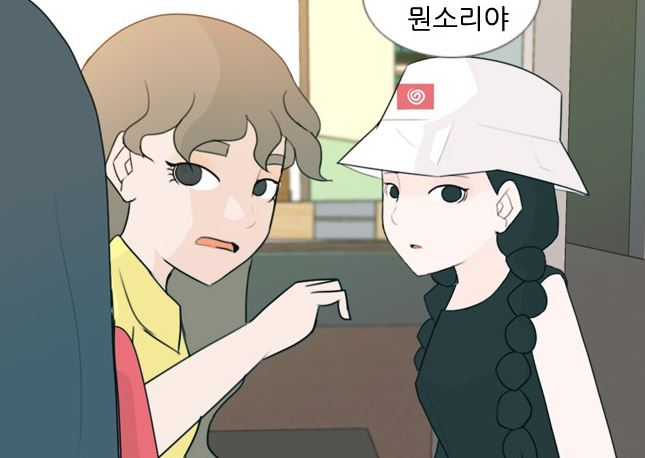hat: (334, 58, 591, 201)
